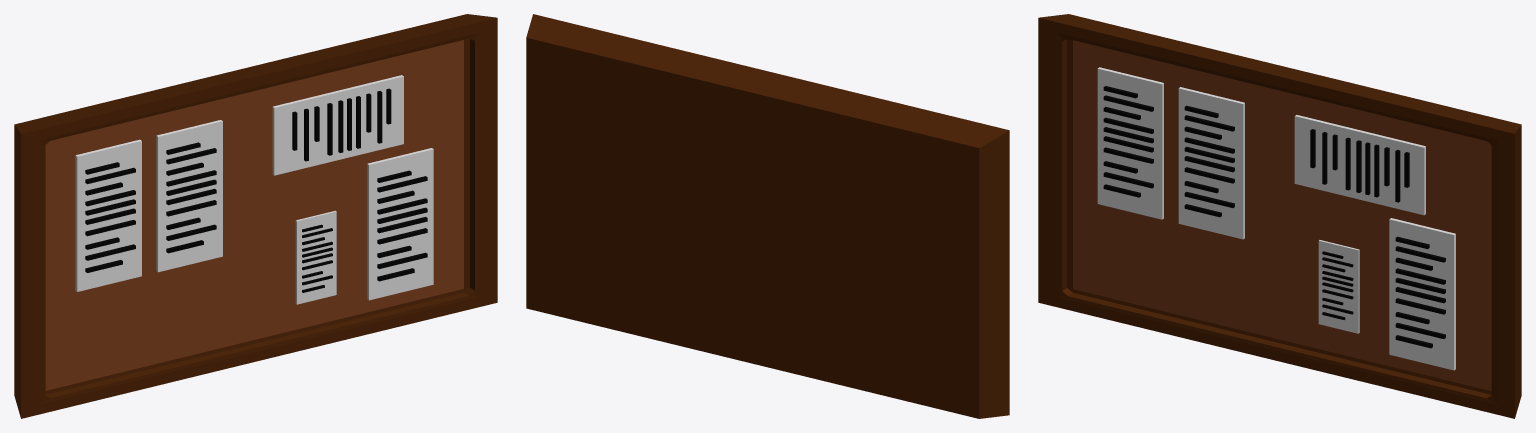
File: duyuru_tablosu.fbx
The picture shows the model from 3 angles, left to right: view 1: azimuth 30°, elevation 25°; view 2: azimuth 150°, elevation 25°; view 3: azimuth 330°, elevation 25°; orthographic projection.
Visible parts, largest first — view 1: Cube; view 2: Cube; view 3: Cube.
Part boxes in pixels (bbox=[...]): Cube: bbox=[14, 14, 497, 418]; Cube: bbox=[526, 14, 1009, 418]; Cube: bbox=[1038, 14, 1521, 418].
Size of the model in its own units: 147 by 84.18 by 10.22.
